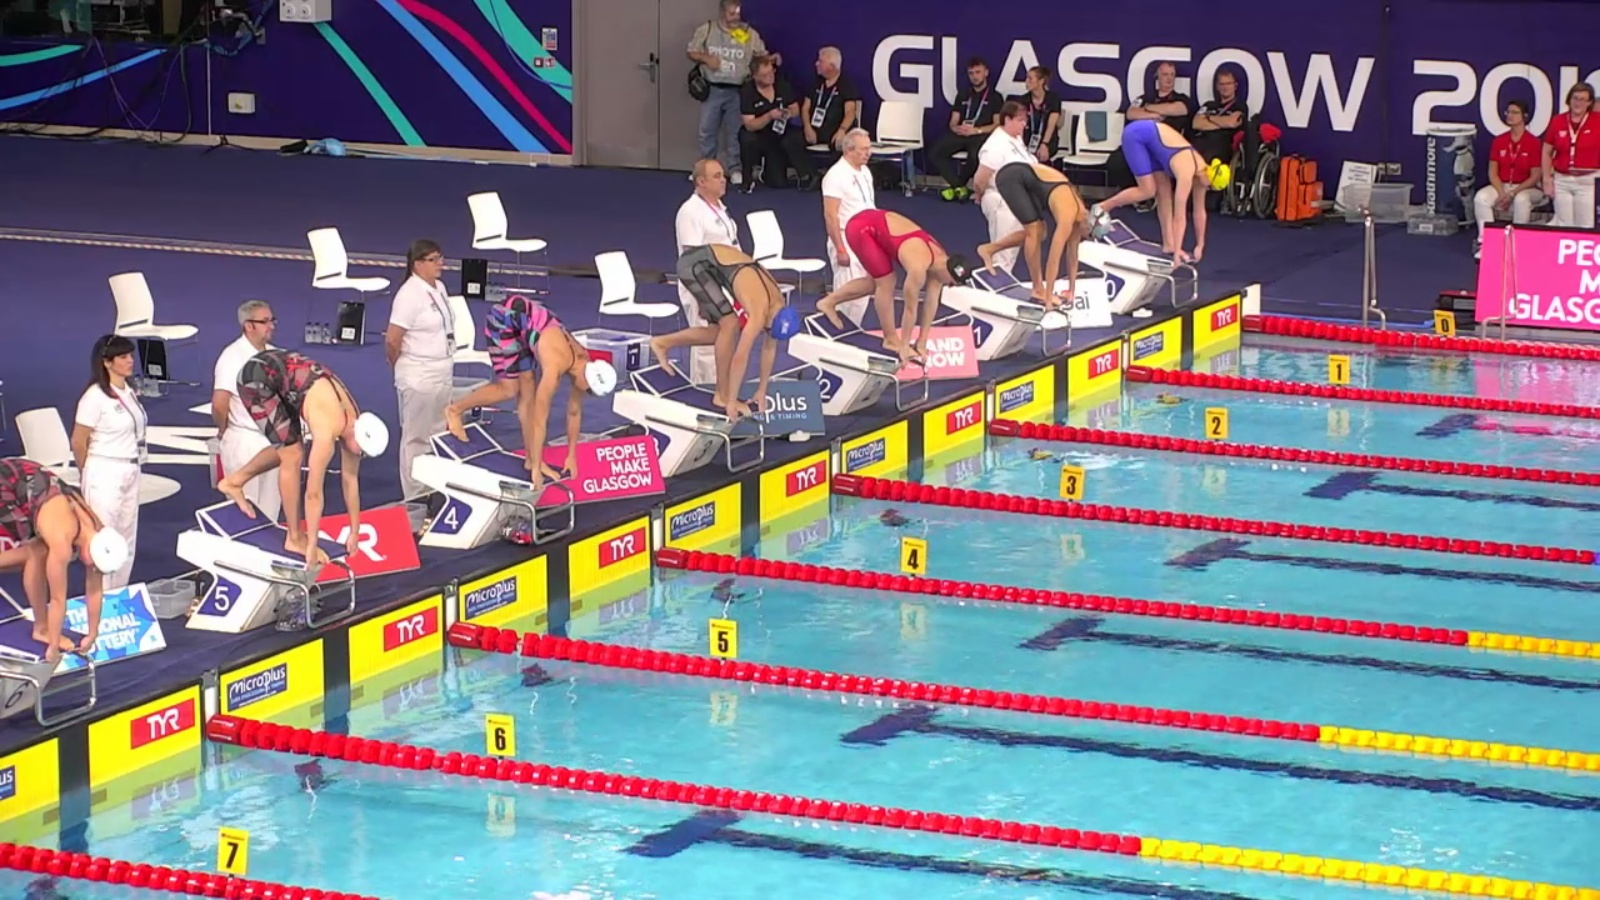swimmerw: (222, 351, 397, 560), (441, 292, 613, 471), (1, 459, 130, 668), (653, 247, 803, 420), (819, 211, 969, 360), (981, 159, 1110, 304), (1103, 119, 1229, 264)
